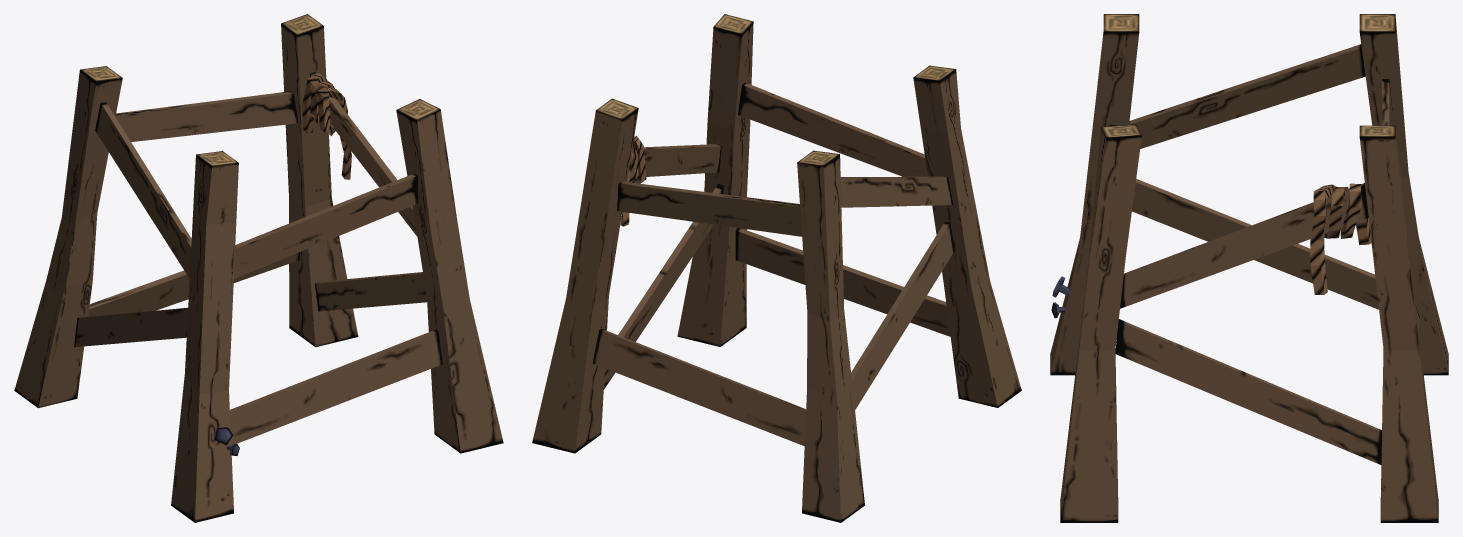
The model's file is rusztowanie_drewno1.fbx.
3 renders of one model, left to right at view 1: azimuth 30°, elevation 25°; view 2: azimuth 150°, elevation 25°; view 3: azimuth 270°, elevation 25°, orthographic. The views are drawn at different scales.
Parts seen in each view (by area): view 1: rusztowanie drewno1; view 2: rusztowanie drewno1; view 3: rusztowanie drewno1.
Part boxes in pixels (x1,y1,x2,y2): rusztowanie drewno1: (14, 14, 503, 522); rusztowanie drewno1: (532, 14, 1021, 522); rusztowanie drewno1: (1050, 14, 1448, 522).
Bounding box in the file's own units: 281 × 281 × 280.
Materials: 2 (2 with a texture image).
